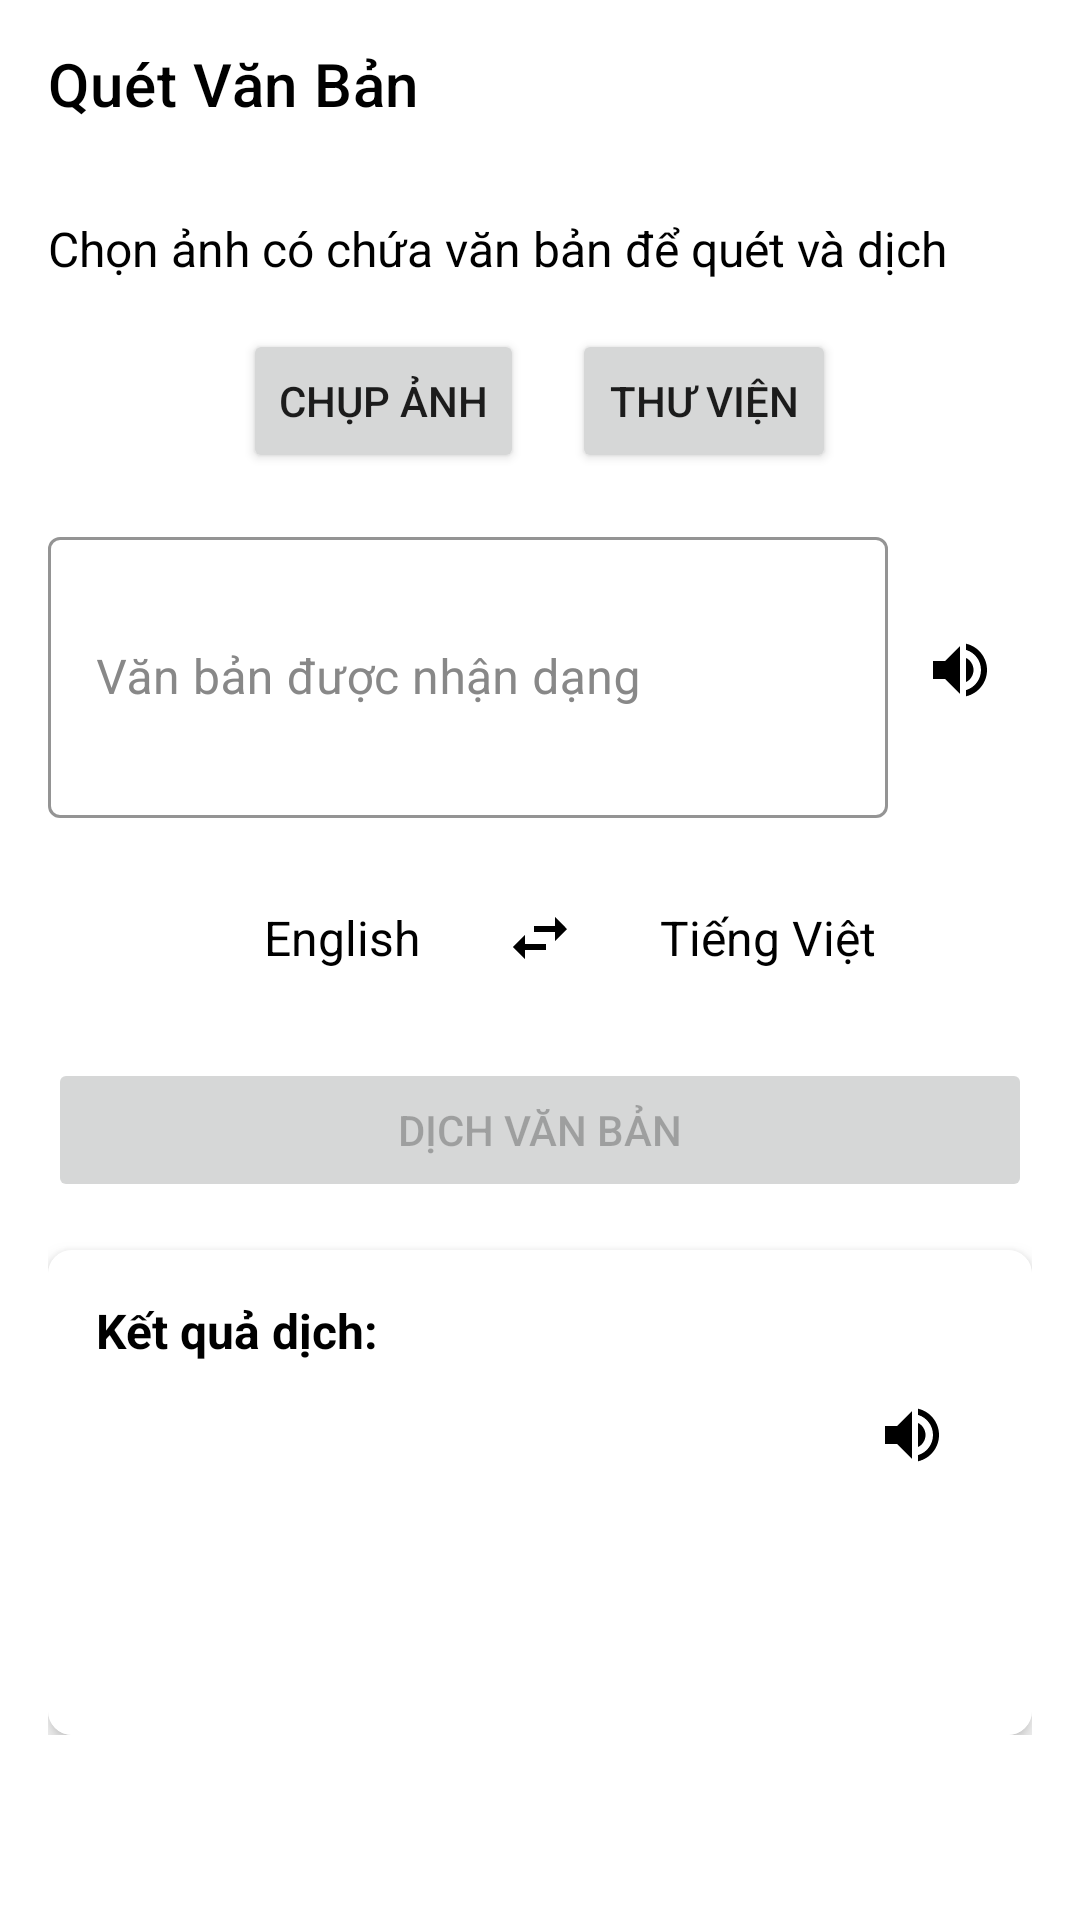

Icon click points for this 1080px x 1920px phone screenshot, format point (x, y):
Phát âm bản dịch: point (912, 1435)
Phát âm văn bản nguồn: point (960, 670)
Swap languages: point (540, 938)
